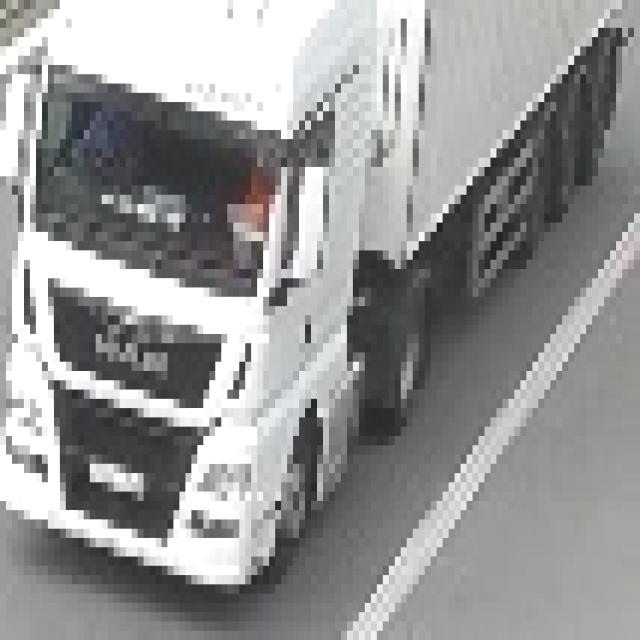TRUCK: (3, 1, 634, 602)
